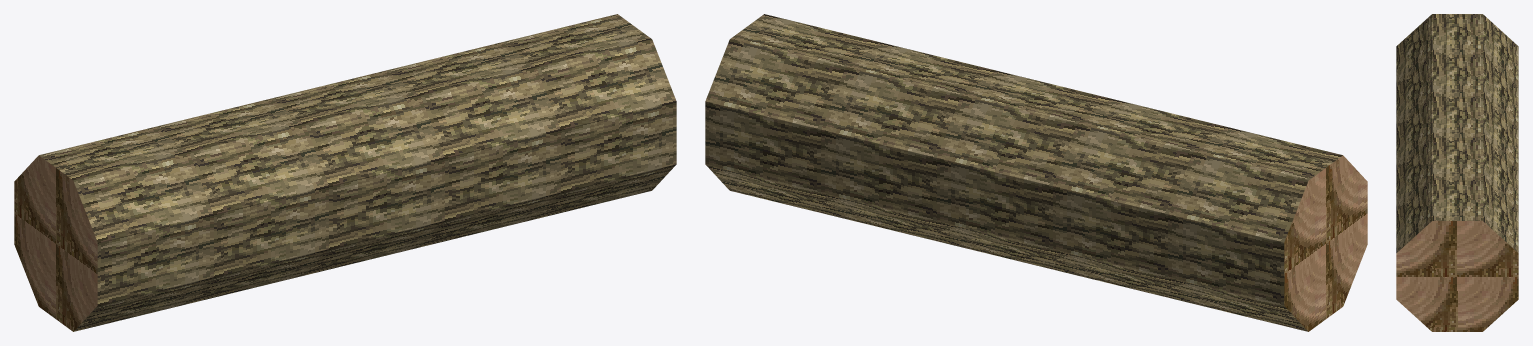
The model's file is fl_log.glb.
3 renders of one model, left to right at view 1: azimuth 30°, elevation 25°; view 2: azimuth 150°, elevation 25°; view 3: azimuth 270°, elevation 25°, orthographic. The views are drawn at different scales.
Visible parts, largest first — view 1: fl_log; view 2: fl_log; view 3: fl_log.
Part boxes in pixels (box(x1,y1,x2,y2)): fl_log: box(14, 14, 676, 331); fl_log: box(705, 14, 1367, 331); fl_log: box(1396, 14, 1518, 331).
Size of the model in its own units: 15.62 by 3.91 by 3.91.
Materials: 2 (2 with a texture image).
